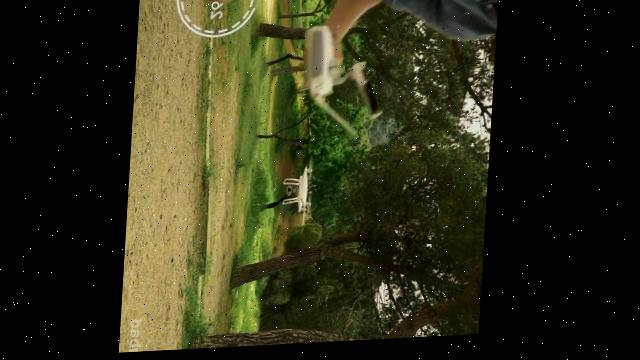drone: (282, 153, 321, 234)
